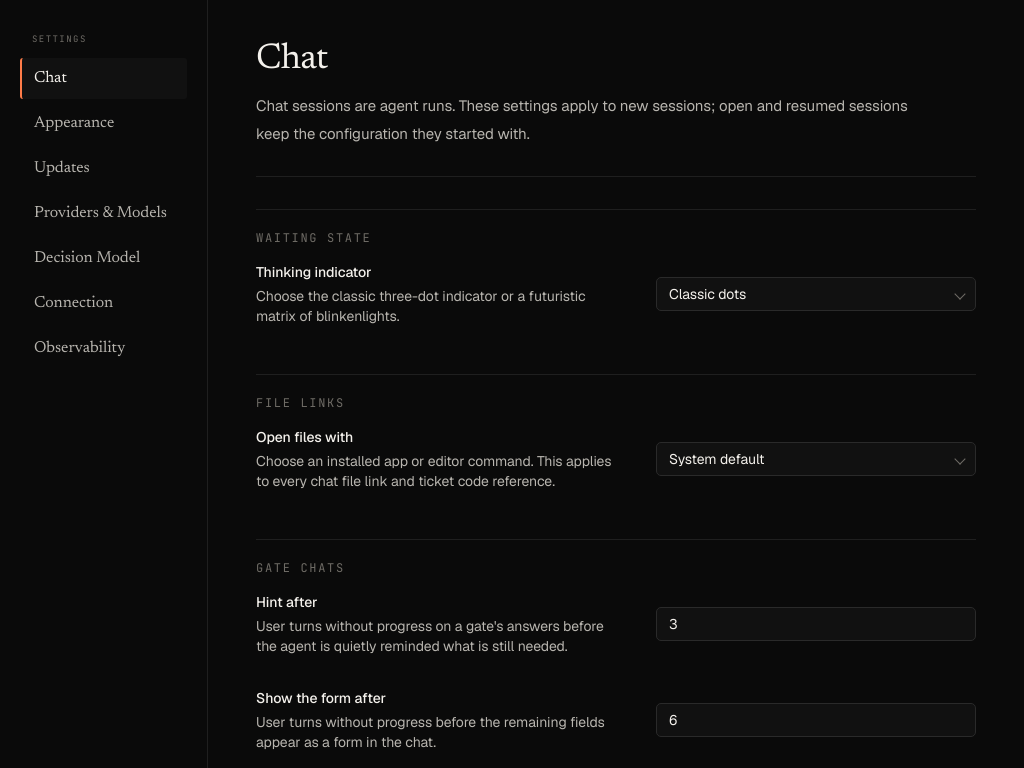
Test: SettingsPage › falls back to the default selection for unavailable stored values
Click the button with test id "settings-nav-appearance": (104,124) [20,103,187,144]
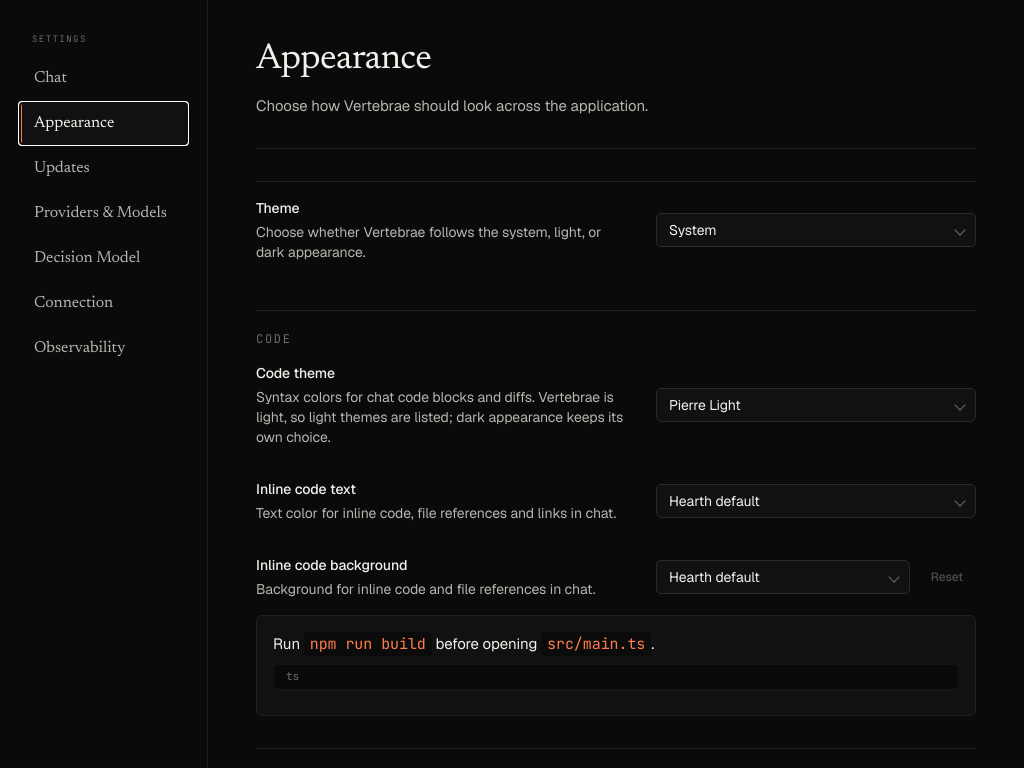
Check: the dropdown named "Code theme" shows "Pierre Light", box [656,388,976,422]
Check: the dropdown named "Inline code text" shows "Hearth default", box [656,484,976,518]
